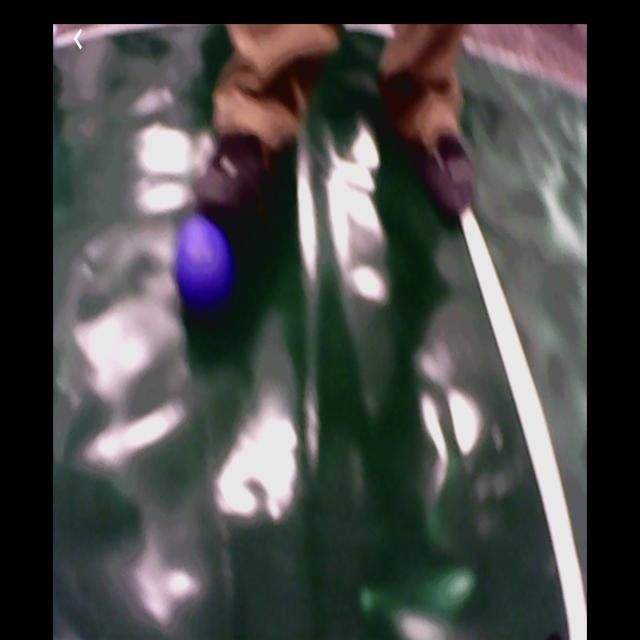ball: (176, 217, 232, 305)
